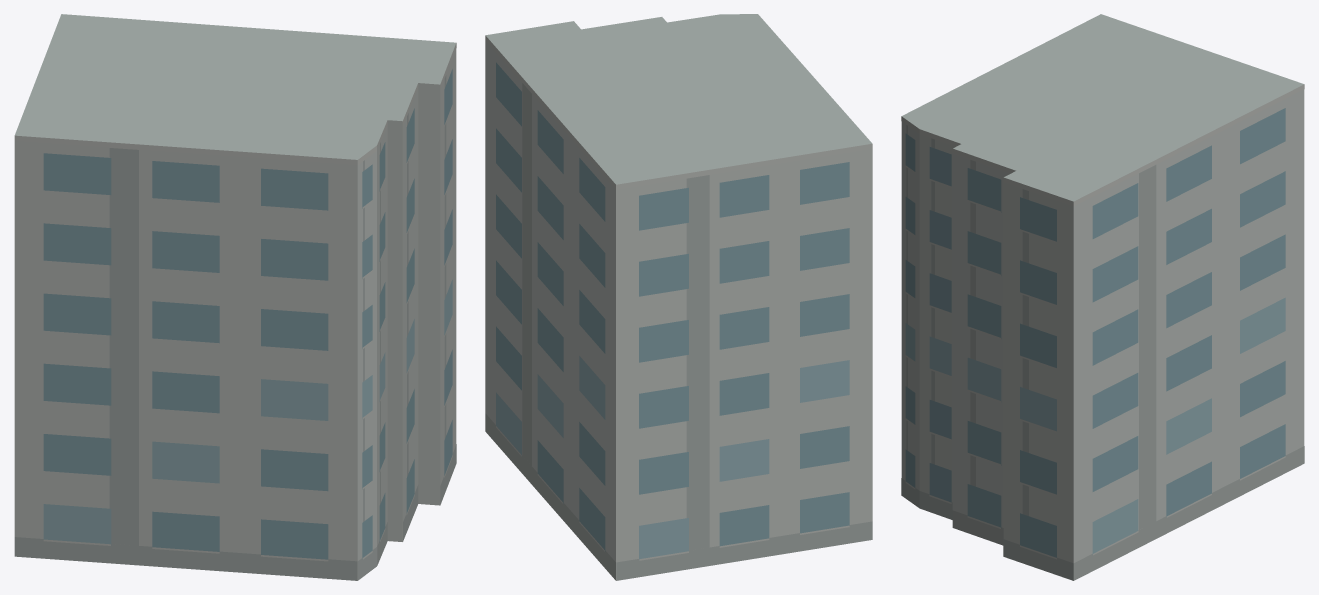
File: survey-upis-32545491.glb
The picture shows the model from 3 angles, left to right: view 1: azimuth 30°, elevation 25°; view 2: azimuth 150°, elevation 25°; view 3: azimuth 270°, elevation 25°; orthographic projection. The views are drawn at different scales.
Parts seen in each view (by area): view 1: survey-upis-32545491.tmp; view 2: survey-upis-32545491.tmp; view 3: survey-upis-32545491.tmp.
Part boxes in pixels (x1,y1,x2,y2): survey-upis-32545491.tmp: (14,14,456,580); survey-upis-32545491.tmp: (485,14,872,580); survey-upis-32545491.tmp: (901,14,1304,580).
Size of the model in its own units: 19.74 by 18.6 by 17.92.
